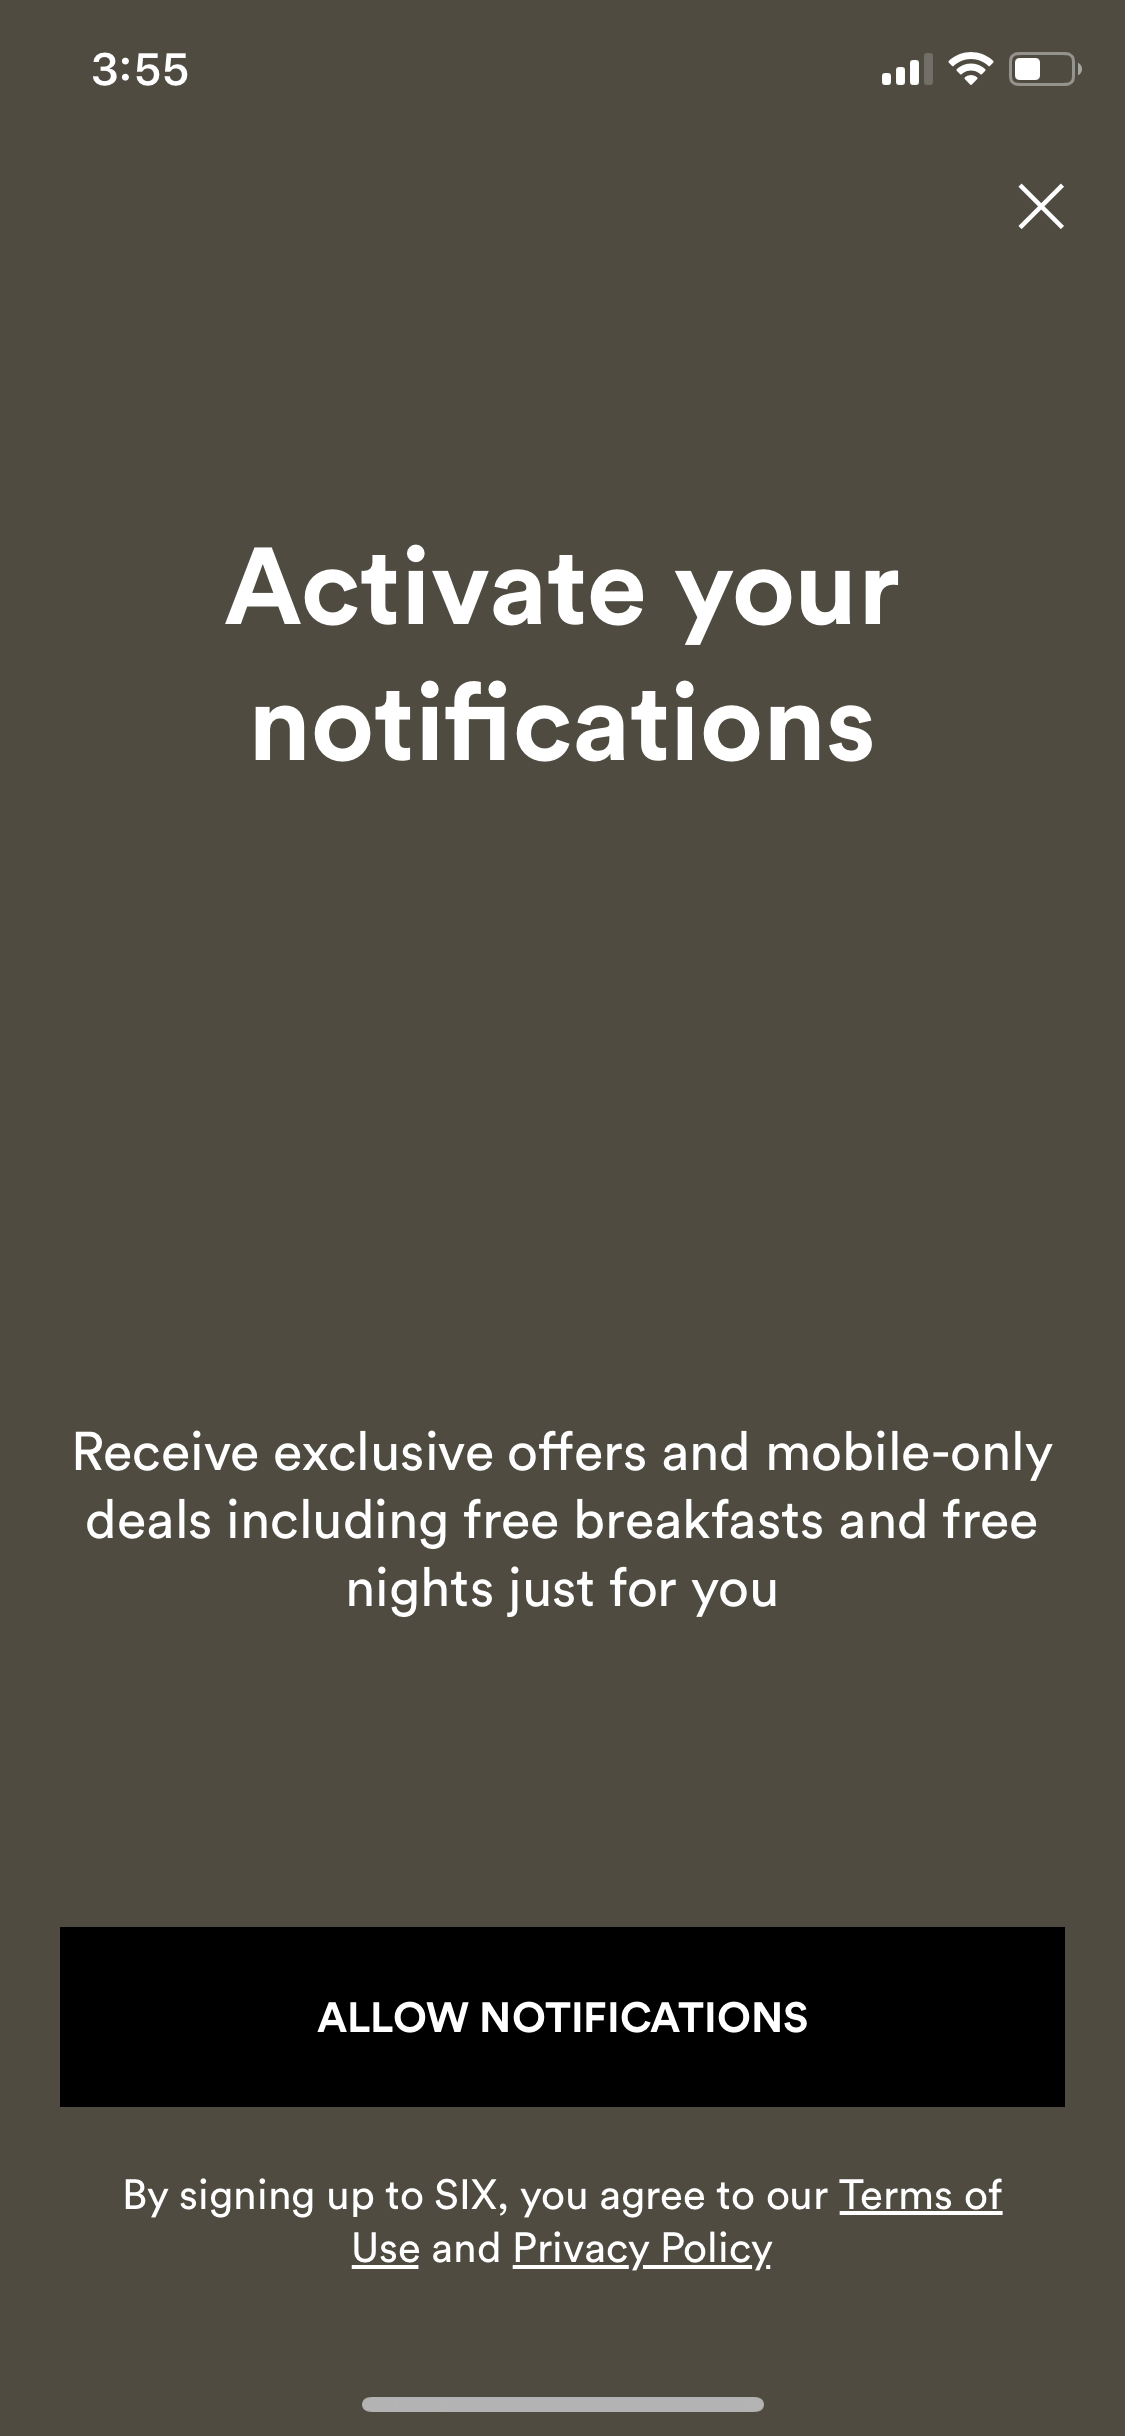Buttons: (50, 1902, 1078, 2128), (984, 144, 1103, 258)
